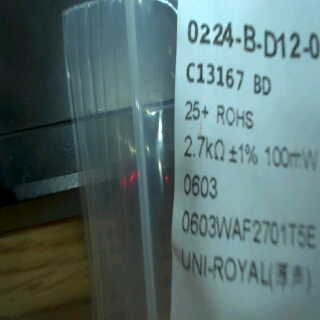2.7kR: (177, 130, 228, 170)
